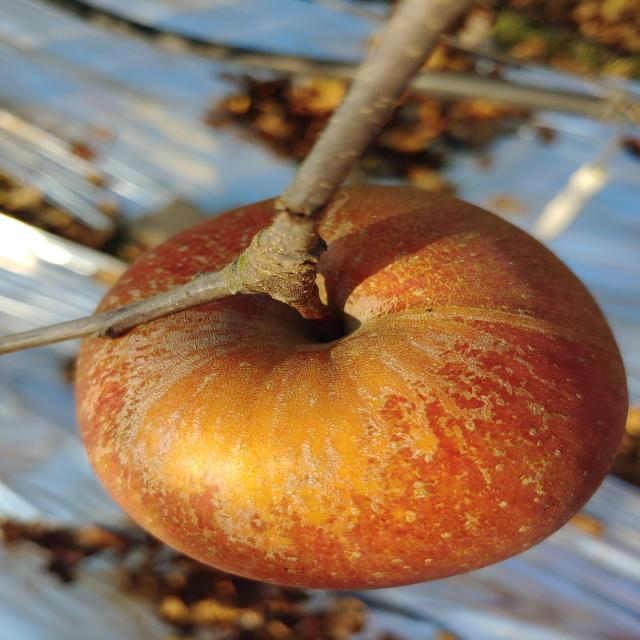fresh: (65, 178, 635, 596)
